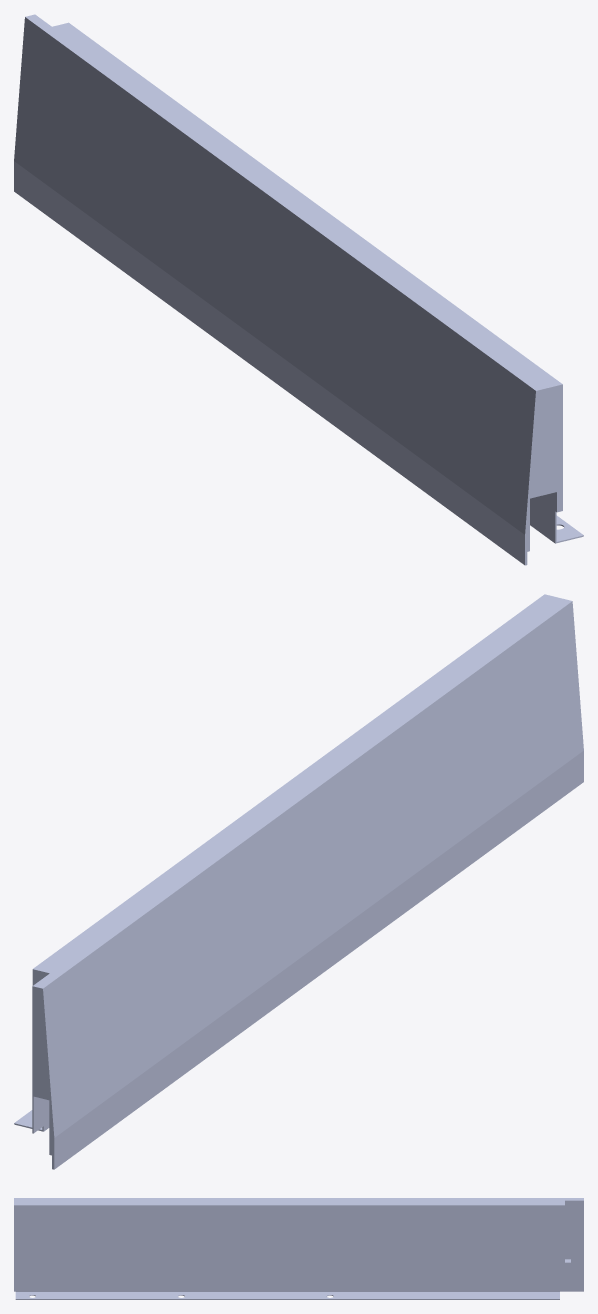
File: mv-kava-M500-p.glb
The picture shows the model from 3 angles, top to bottom: view 1: azimuth 30°, elevation 25°; view 2: azimuth 150°, elevation 25°; view 3: azimuth 270°, elevation 25°; orthographic projection. The views are drawn at different scales.
Parts seen in each view (by area): view 1: 42792428; view 2: 42792428; view 3: 42792428.
Boxes of the visible parts, box(x1,y1,x2,y2) form: 42792428: box(14, 14, 583, 565); 42792428: box(14, 594, 583, 1169); 42792428: box(14, 1198, 583, 1299).
Size of the model in its own units: 0.0335 by 0.091 by 0.4902.
